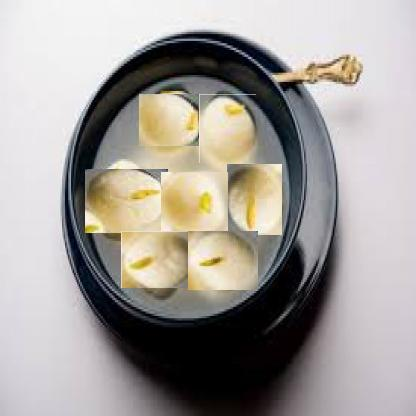rasgulla: (89, 164, 163, 238), (126, 226, 193, 293), (190, 228, 256, 292), (162, 170, 226, 234), (226, 163, 282, 235), (199, 94, 256, 163), (141, 91, 199, 149)
